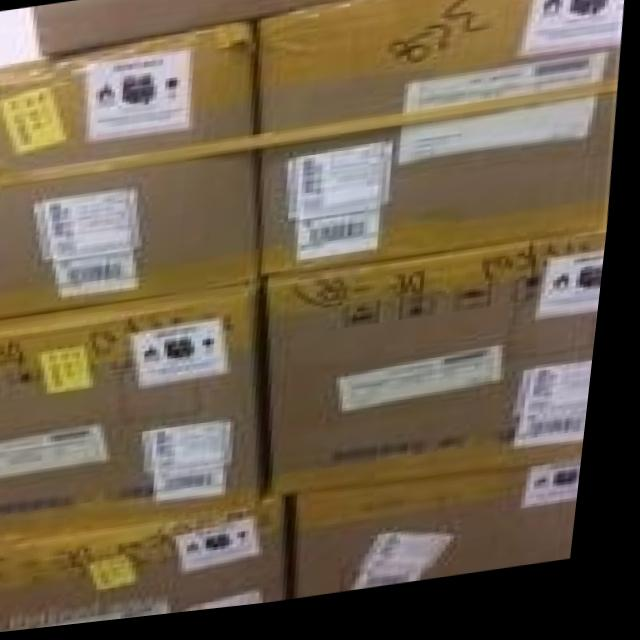box: (257, 0, 626, 290), (266, 241, 613, 504), (0, 24, 263, 322), (0, 291, 272, 539), (0, 504, 308, 635), (301, 480, 593, 603), (32, 0, 400, 58)
